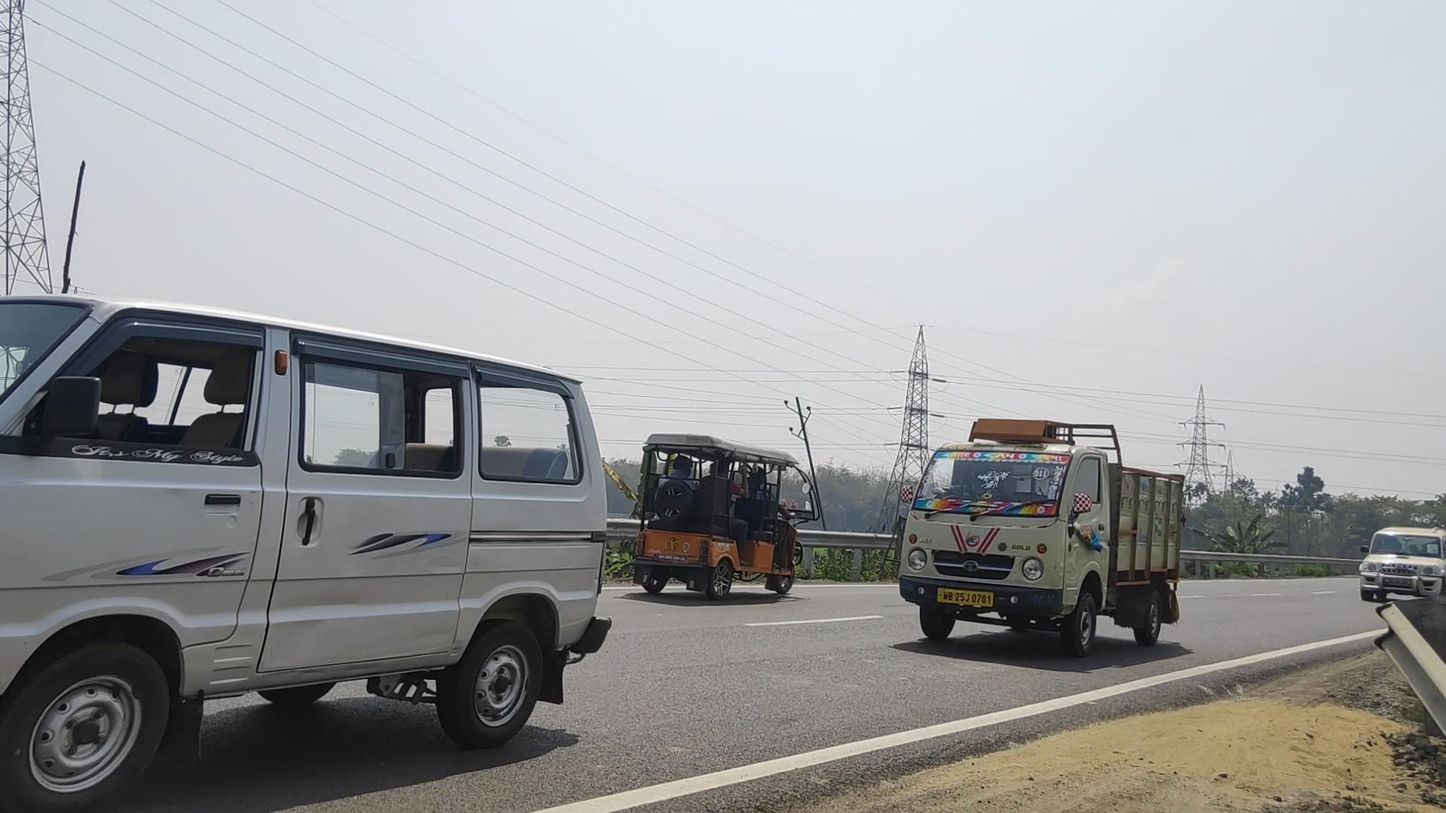Auto: (630, 433, 822, 602)
car: (1359, 525, 1446, 606)
van: (1, 294, 613, 813), (898, 418, 1185, 659)
